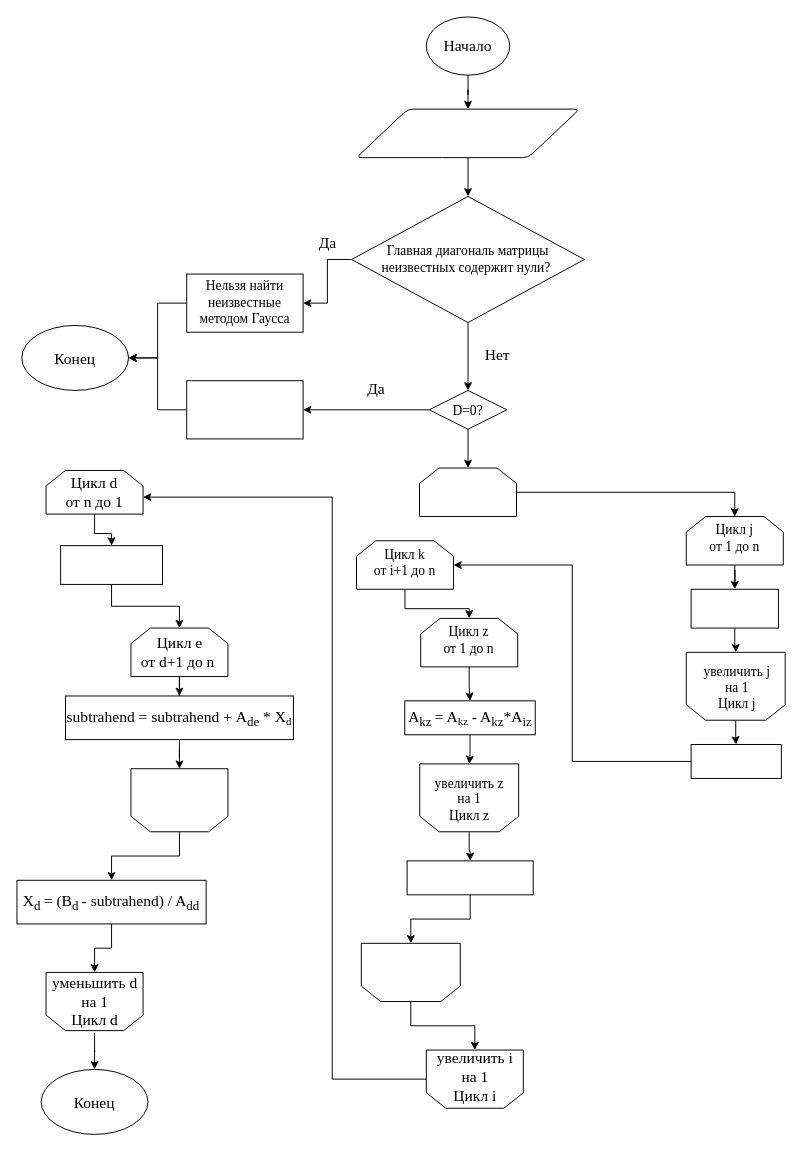
Image size: 802x1151. Some labels were removed from this diagram. Each missing label, with the box of its shape:
A ij = A ij / A ii: (690, 588, 778, 628)
B i = B i / A ii: (690, 744, 781, 778)
B k = B k - A ki *B i: (406, 860, 533, 895)
subtrahend = 0: (60, 545, 162, 584)
Ввод исходных данных: m,n,matrix: (356, 108, 580, 158)
Матрица является несовместной: (186, 380, 303, 439)
увеличить e на 1 Цикл e: (130, 768, 228, 832)
увеличить k на 1 Цикл k: (360, 942, 460, 1002)
Цикл i от 1 до n-1: (419, 467, 517, 517)
